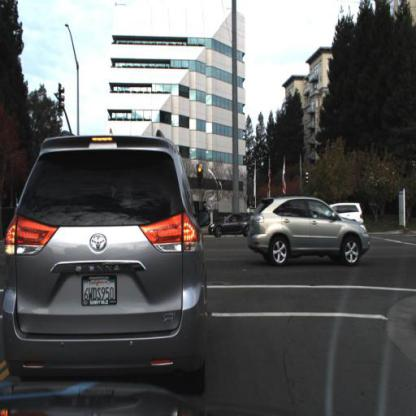car: (3, 126, 217, 396), (249, 197, 371, 270), (330, 196, 369, 237), (210, 212, 257, 239)
trafficLight-Red: (197, 161, 206, 190)
